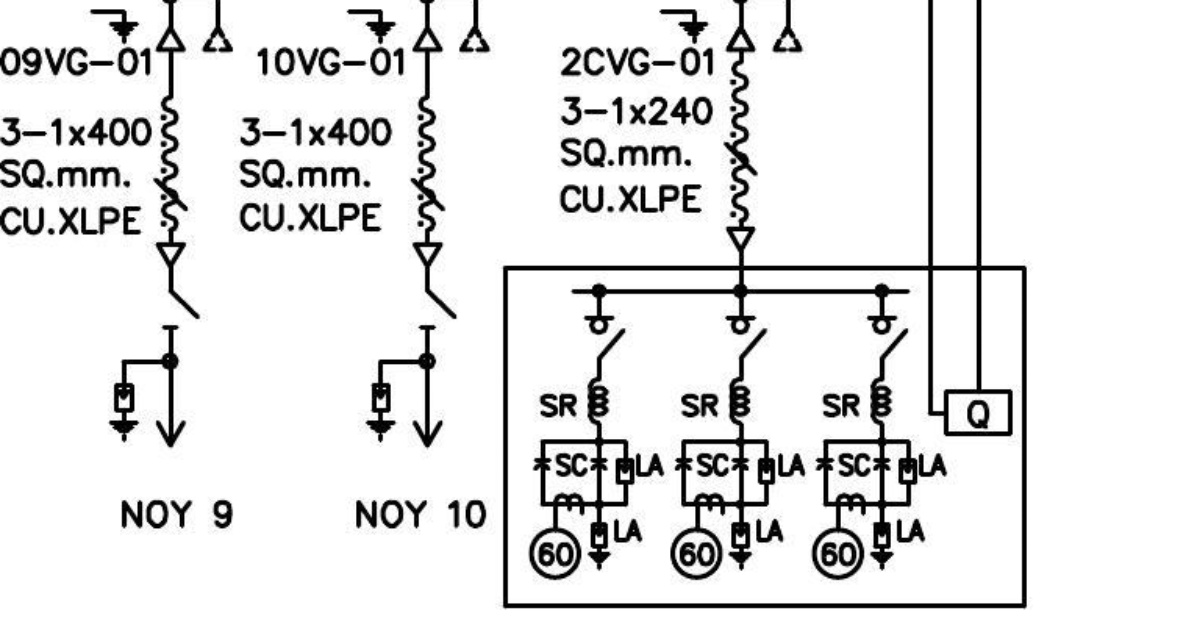22_cap_bank: (502, 265, 1028, 610)
22_ds_la_out: (365, 290, 459, 450), (108, 290, 201, 450)
Q: (943, 388, 1014, 438)
terminator_single: (412, 241, 444, 269), (724, 225, 756, 253), (154, 242, 186, 269)
